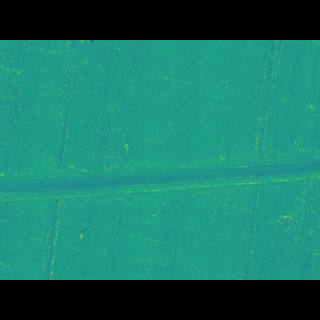Loch: (0, 149, 320, 193)
